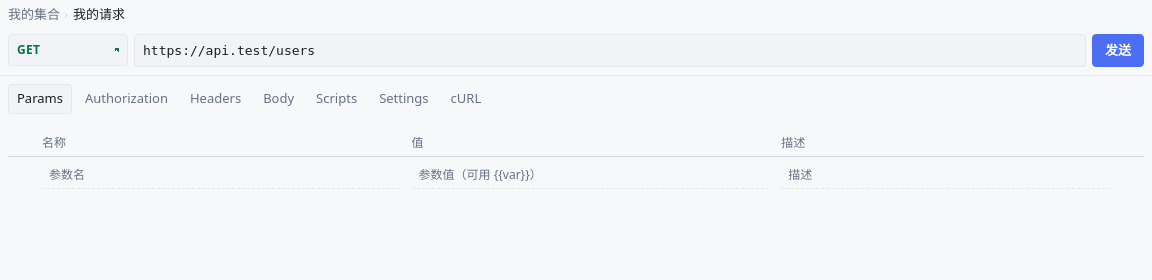
Test: URL 与参数表同步（spec: URL 与参数表保持同步） › 在地址栏输入带查询串的 URL：参数表跟着出现这些行
Replace the text in the field named "请求地址" with "https://api.test/users?page=1&size=10" at x=610, y=50, box [135, 34, 1085, 66]
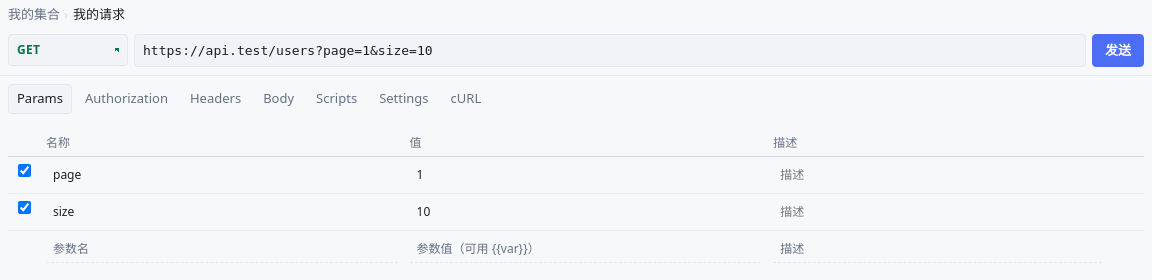
Result: the field named "参数名 1" holds "size" at [46, 198, 398, 226]
